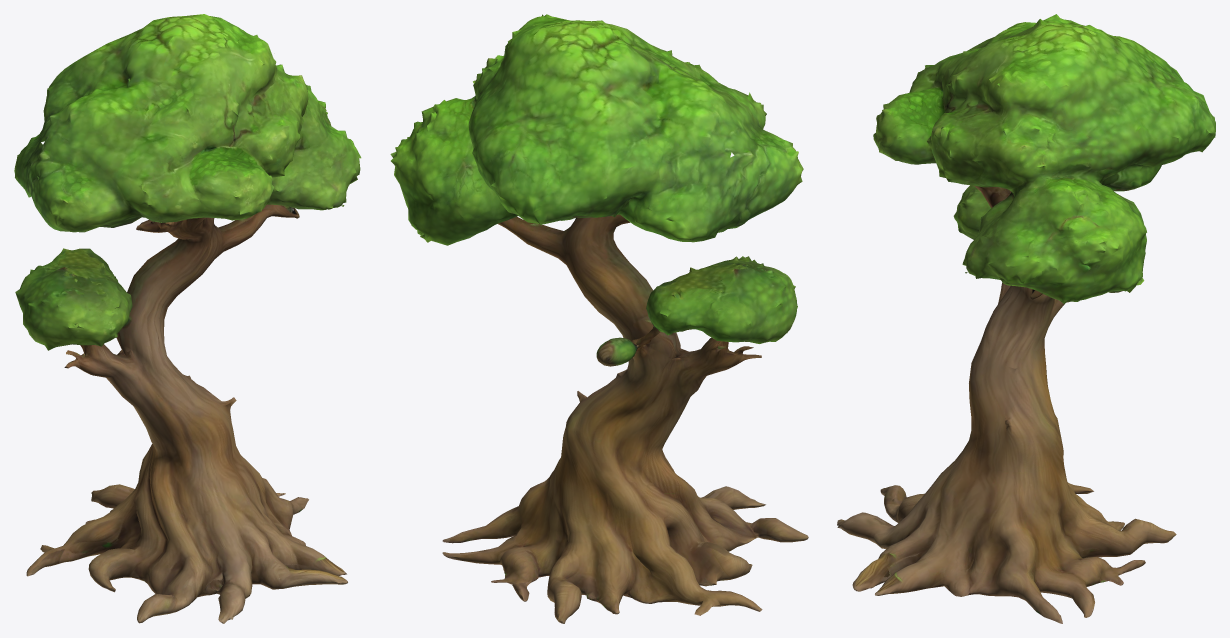
Rendered from veg_old_tree.glb.
3 views of the same model, side by side, from view 1: azimuth 30°, elevation 25°; view 2: azimuth 150°, elevation 25°; view 3: azimuth 270°, elevation 25° (orthographic). The views are drawn at different scales.
Parts seen in each view (by area): view 1: Old tree; view 2: Old tree; view 3: Old tree.
Boxes of the visible parts, x1=… form: Old tree: x1=14, y1=14, x2=361, y2=623; Old tree: x1=390, y1=14, x2=808, y2=623; Old tree: x1=837, y1=14, x2=1215, y2=623.
Size of the model in its own units: 1.37 by 1.99 by 1.28.
Materials: 1 (1 with a texture image).
